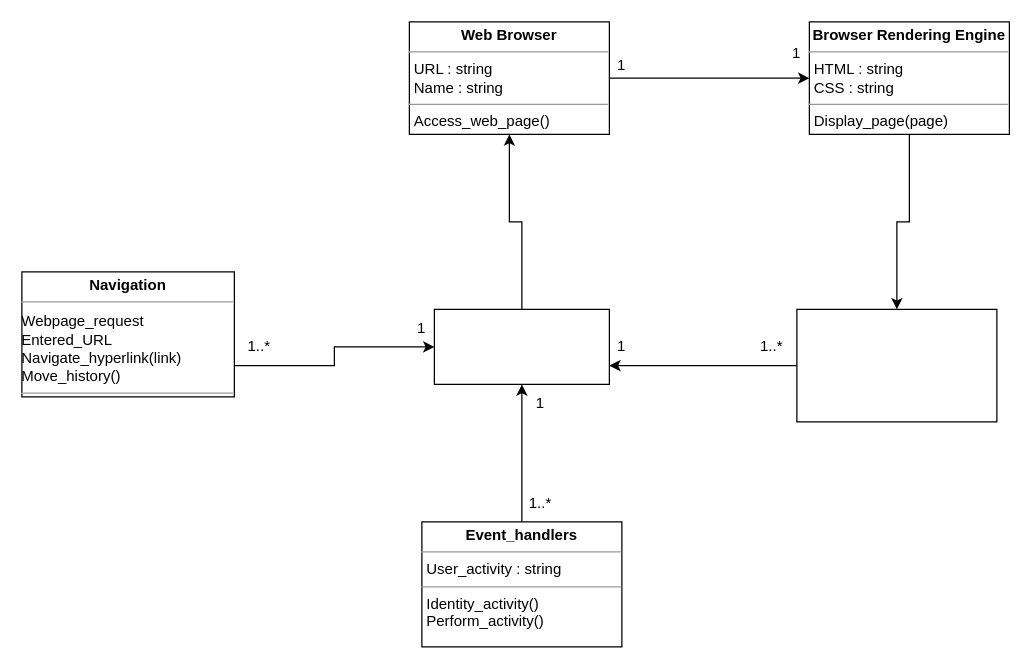
The diagram is 1031 pixels wide and 669 high, and some of its shapes have lost their labels. The centre of each missing label's shape, as x and y in pixels:
"Browser_control Control_function" belongs at pixel 521 346.
"Classname Aspect_input : string Modify_page_display() Window(filters)" belongs at pixel 896 365.
